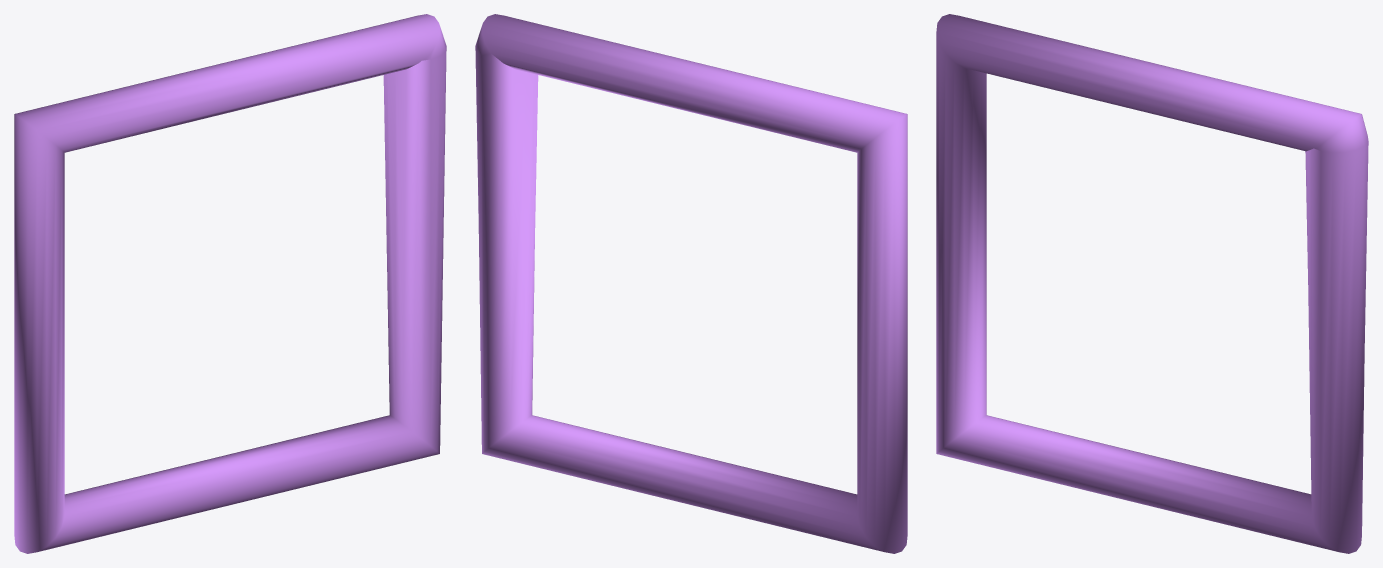
The model's file is square-Bz4E1lX1.glb.
3 views of the same model, side by side, from view 1: azimuth 30°, elevation 25°; view 2: azimuth 150°, elevation 25°; view 3: azimuth 330°, elevation 25° (orthographic).
Parts seen in each view (by area): view 1: R3D_square_Body_0; view 2: R3D_square_Body_0; view 3: R3D_square_Body_0.
Boxes of the visible parts, x1=… form: R3D_square_Body_0: x1=14, y1=14, x2=446, y2=553; R3D_square_Body_0: x1=475, y1=14, x2=907, y2=553; R3D_square_Body_0: x1=936, y1=14, x2=1368, y2=553.
Size of the model in its own units: 1.83 by 1.8 by 0.24.
